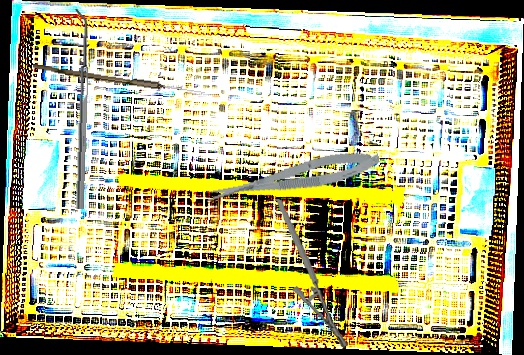Micro Scissor: (202, 145, 383, 209)
Needle Holder: (275, 193, 350, 354)
Spatula Surgical: (68, 8, 91, 210)
Surgical Spoon: (32, 63, 206, 97)
